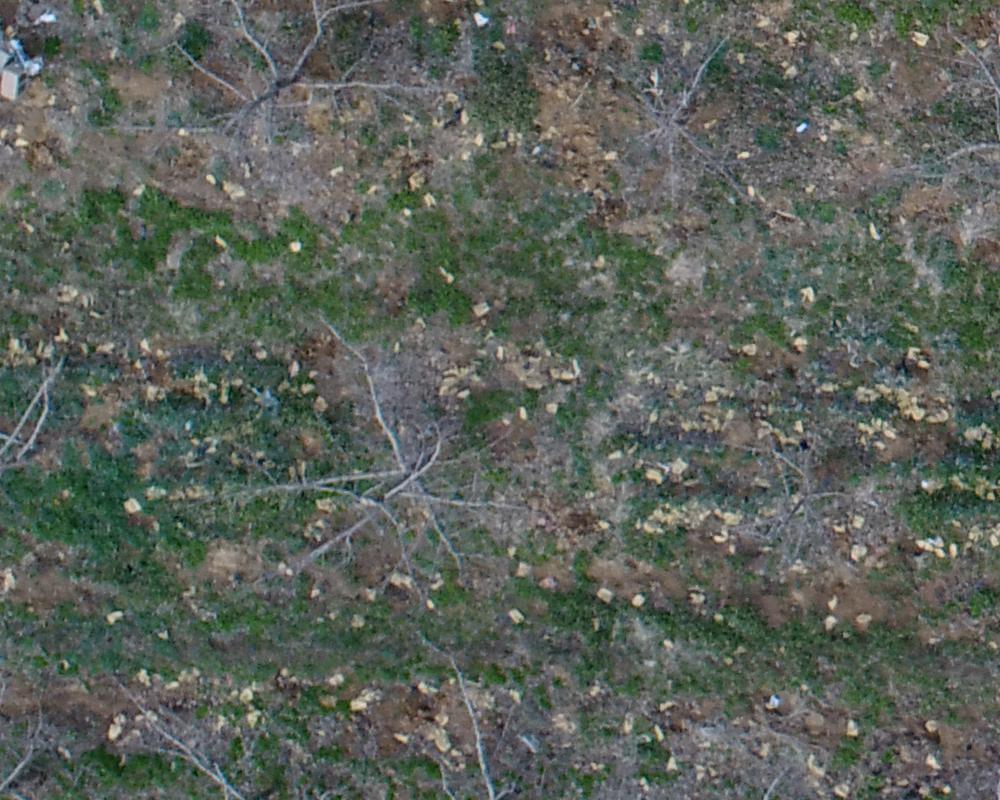apple: (244, 311, 505, 593), (134, 10, 428, 176), (362, 654, 611, 790), (106, 680, 350, 790), (589, 27, 755, 182), (714, 408, 869, 569)
